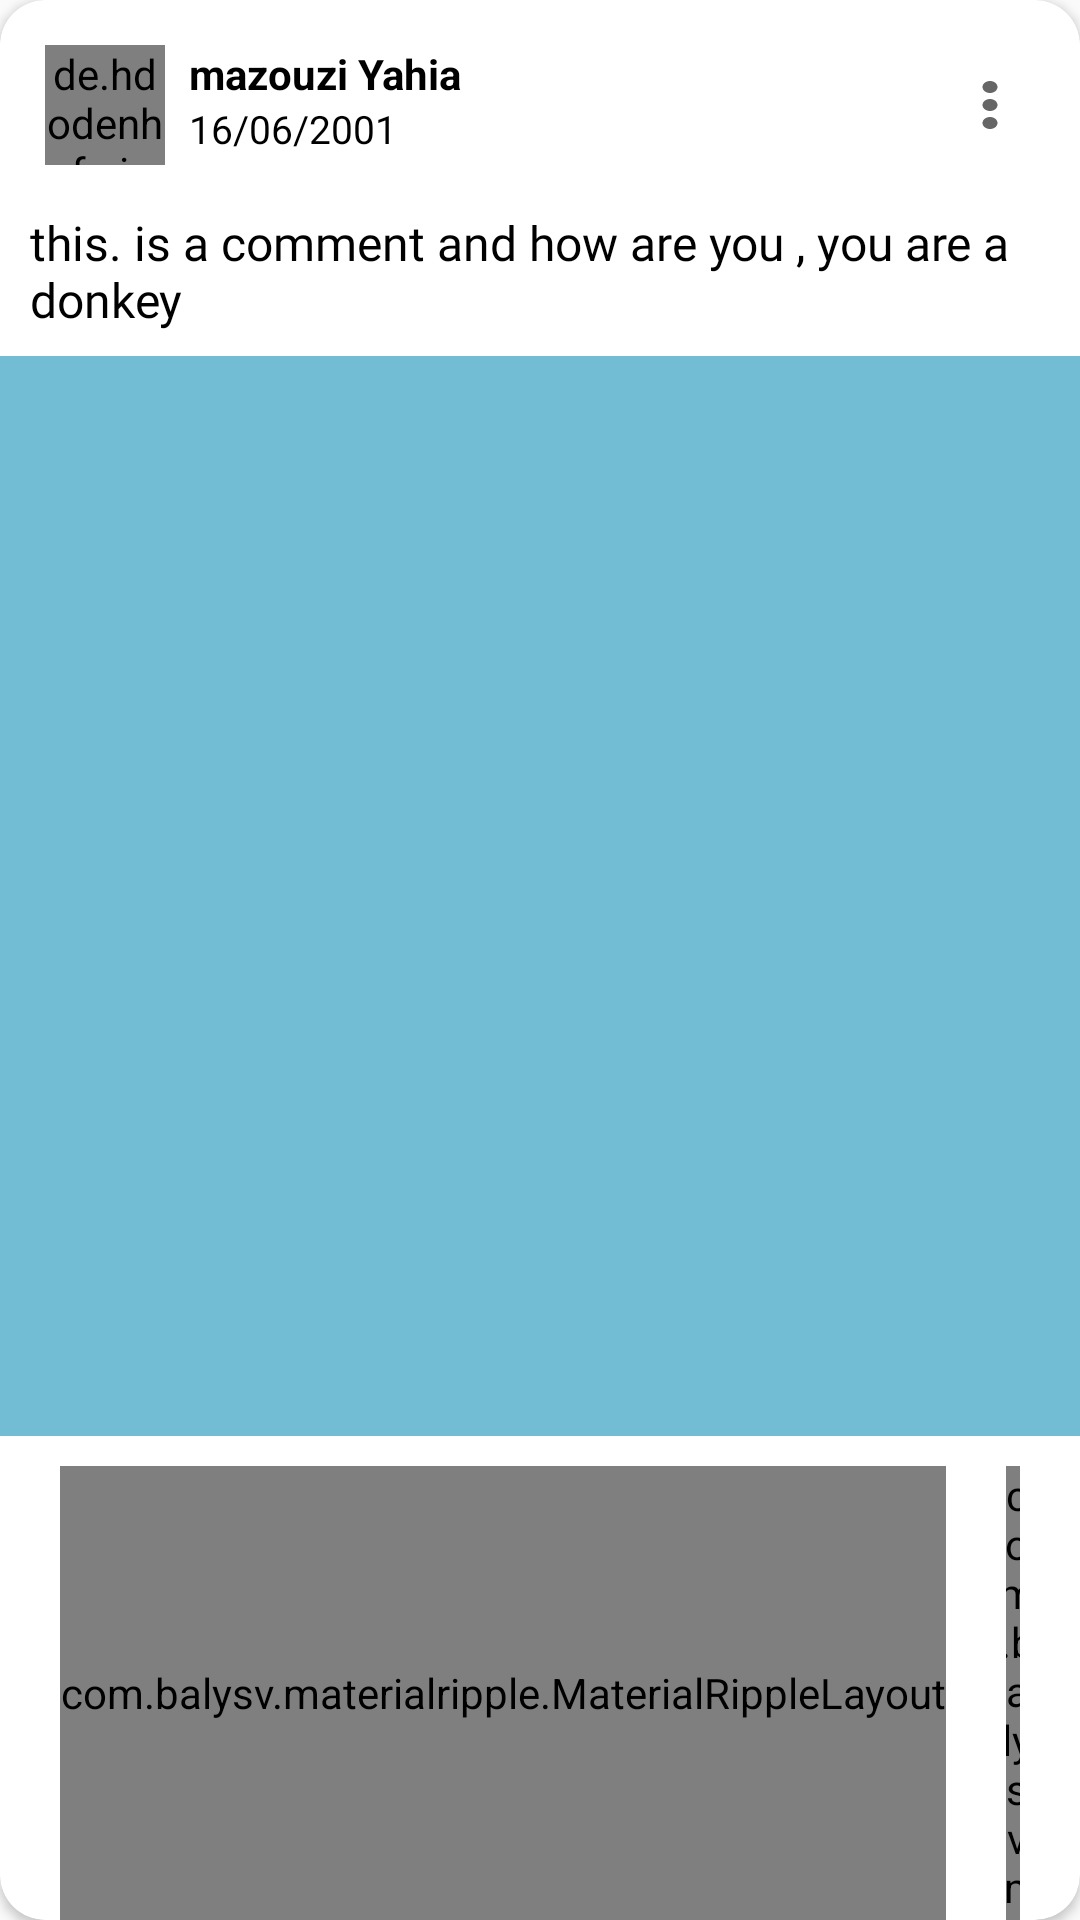

Where icons sit on this 1080 x 1920 app screen, as rect(x1, y1, x2, y2):
more: rect(982, 81, 998, 129)
